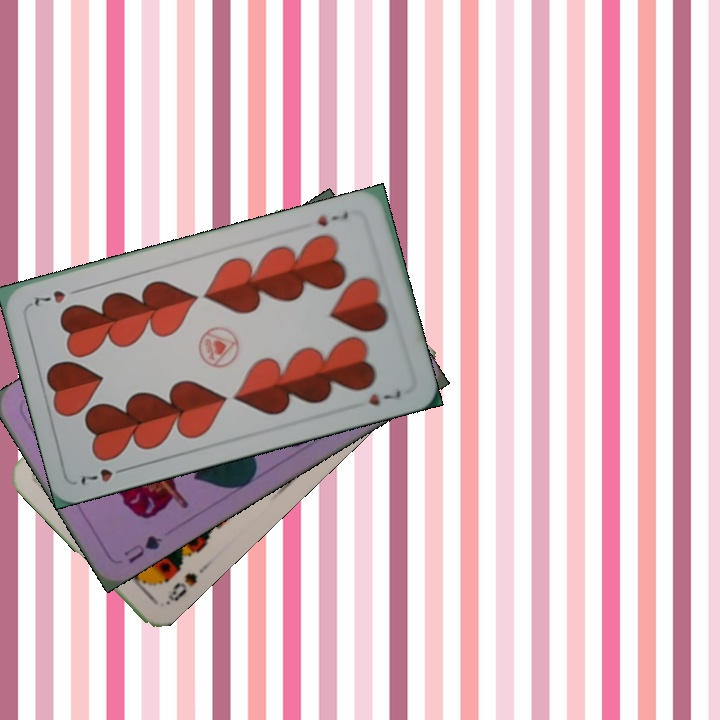GU: (120, 531, 165, 567)
H7: (76, 463, 132, 487), (313, 208, 351, 229)
S8: (161, 568, 200, 608)
